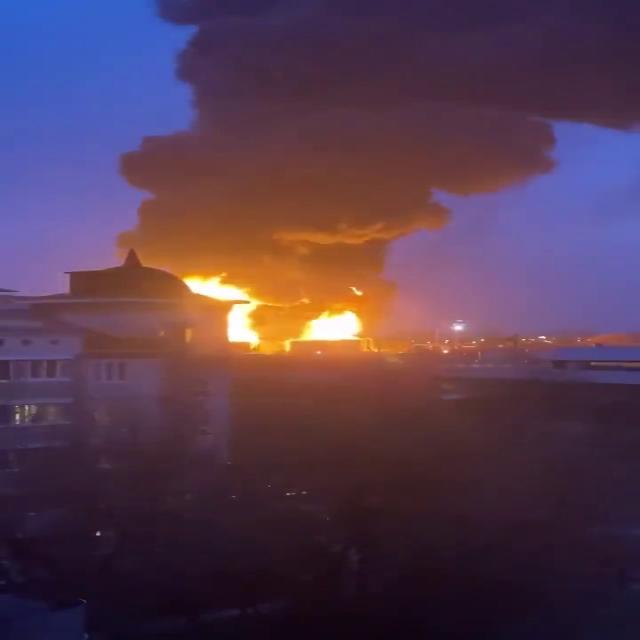Fire: (300, 311, 361, 340), (228, 304, 259, 346), (187, 281, 250, 300)
Smoke: (120, 0, 640, 252)
